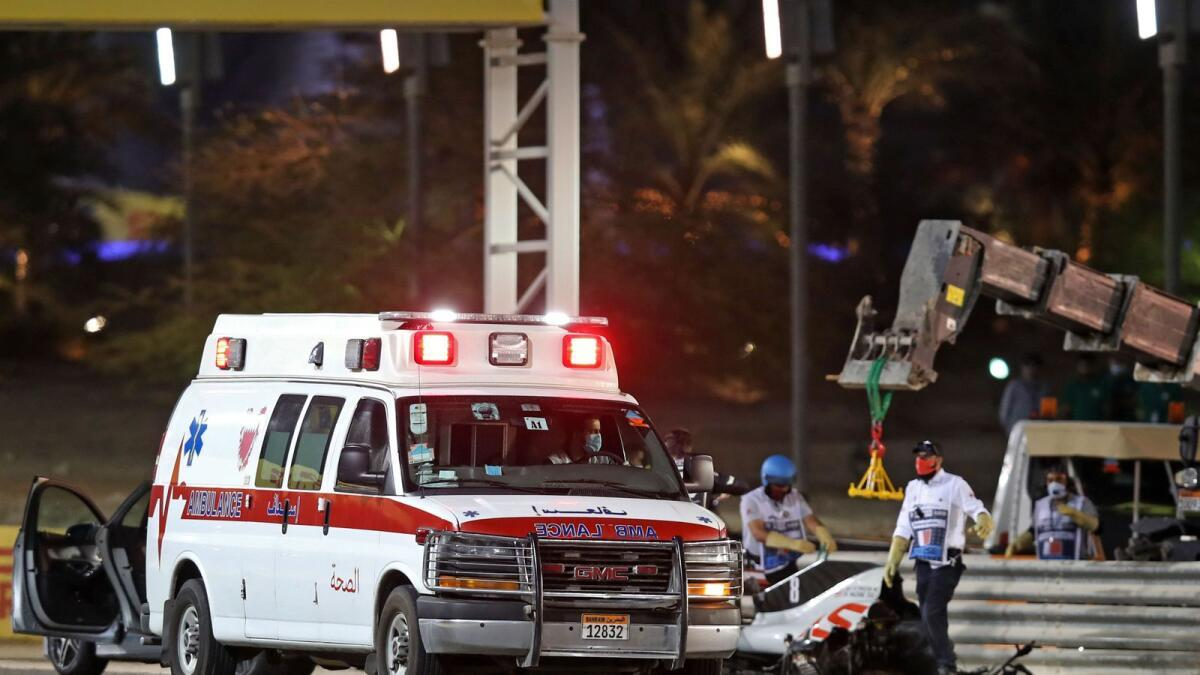ambulance_on: (149, 311, 746, 674)
